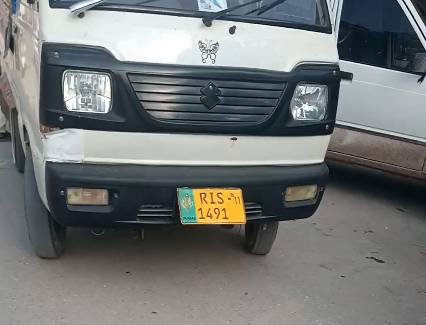number_plate: (173, 184, 251, 228)
